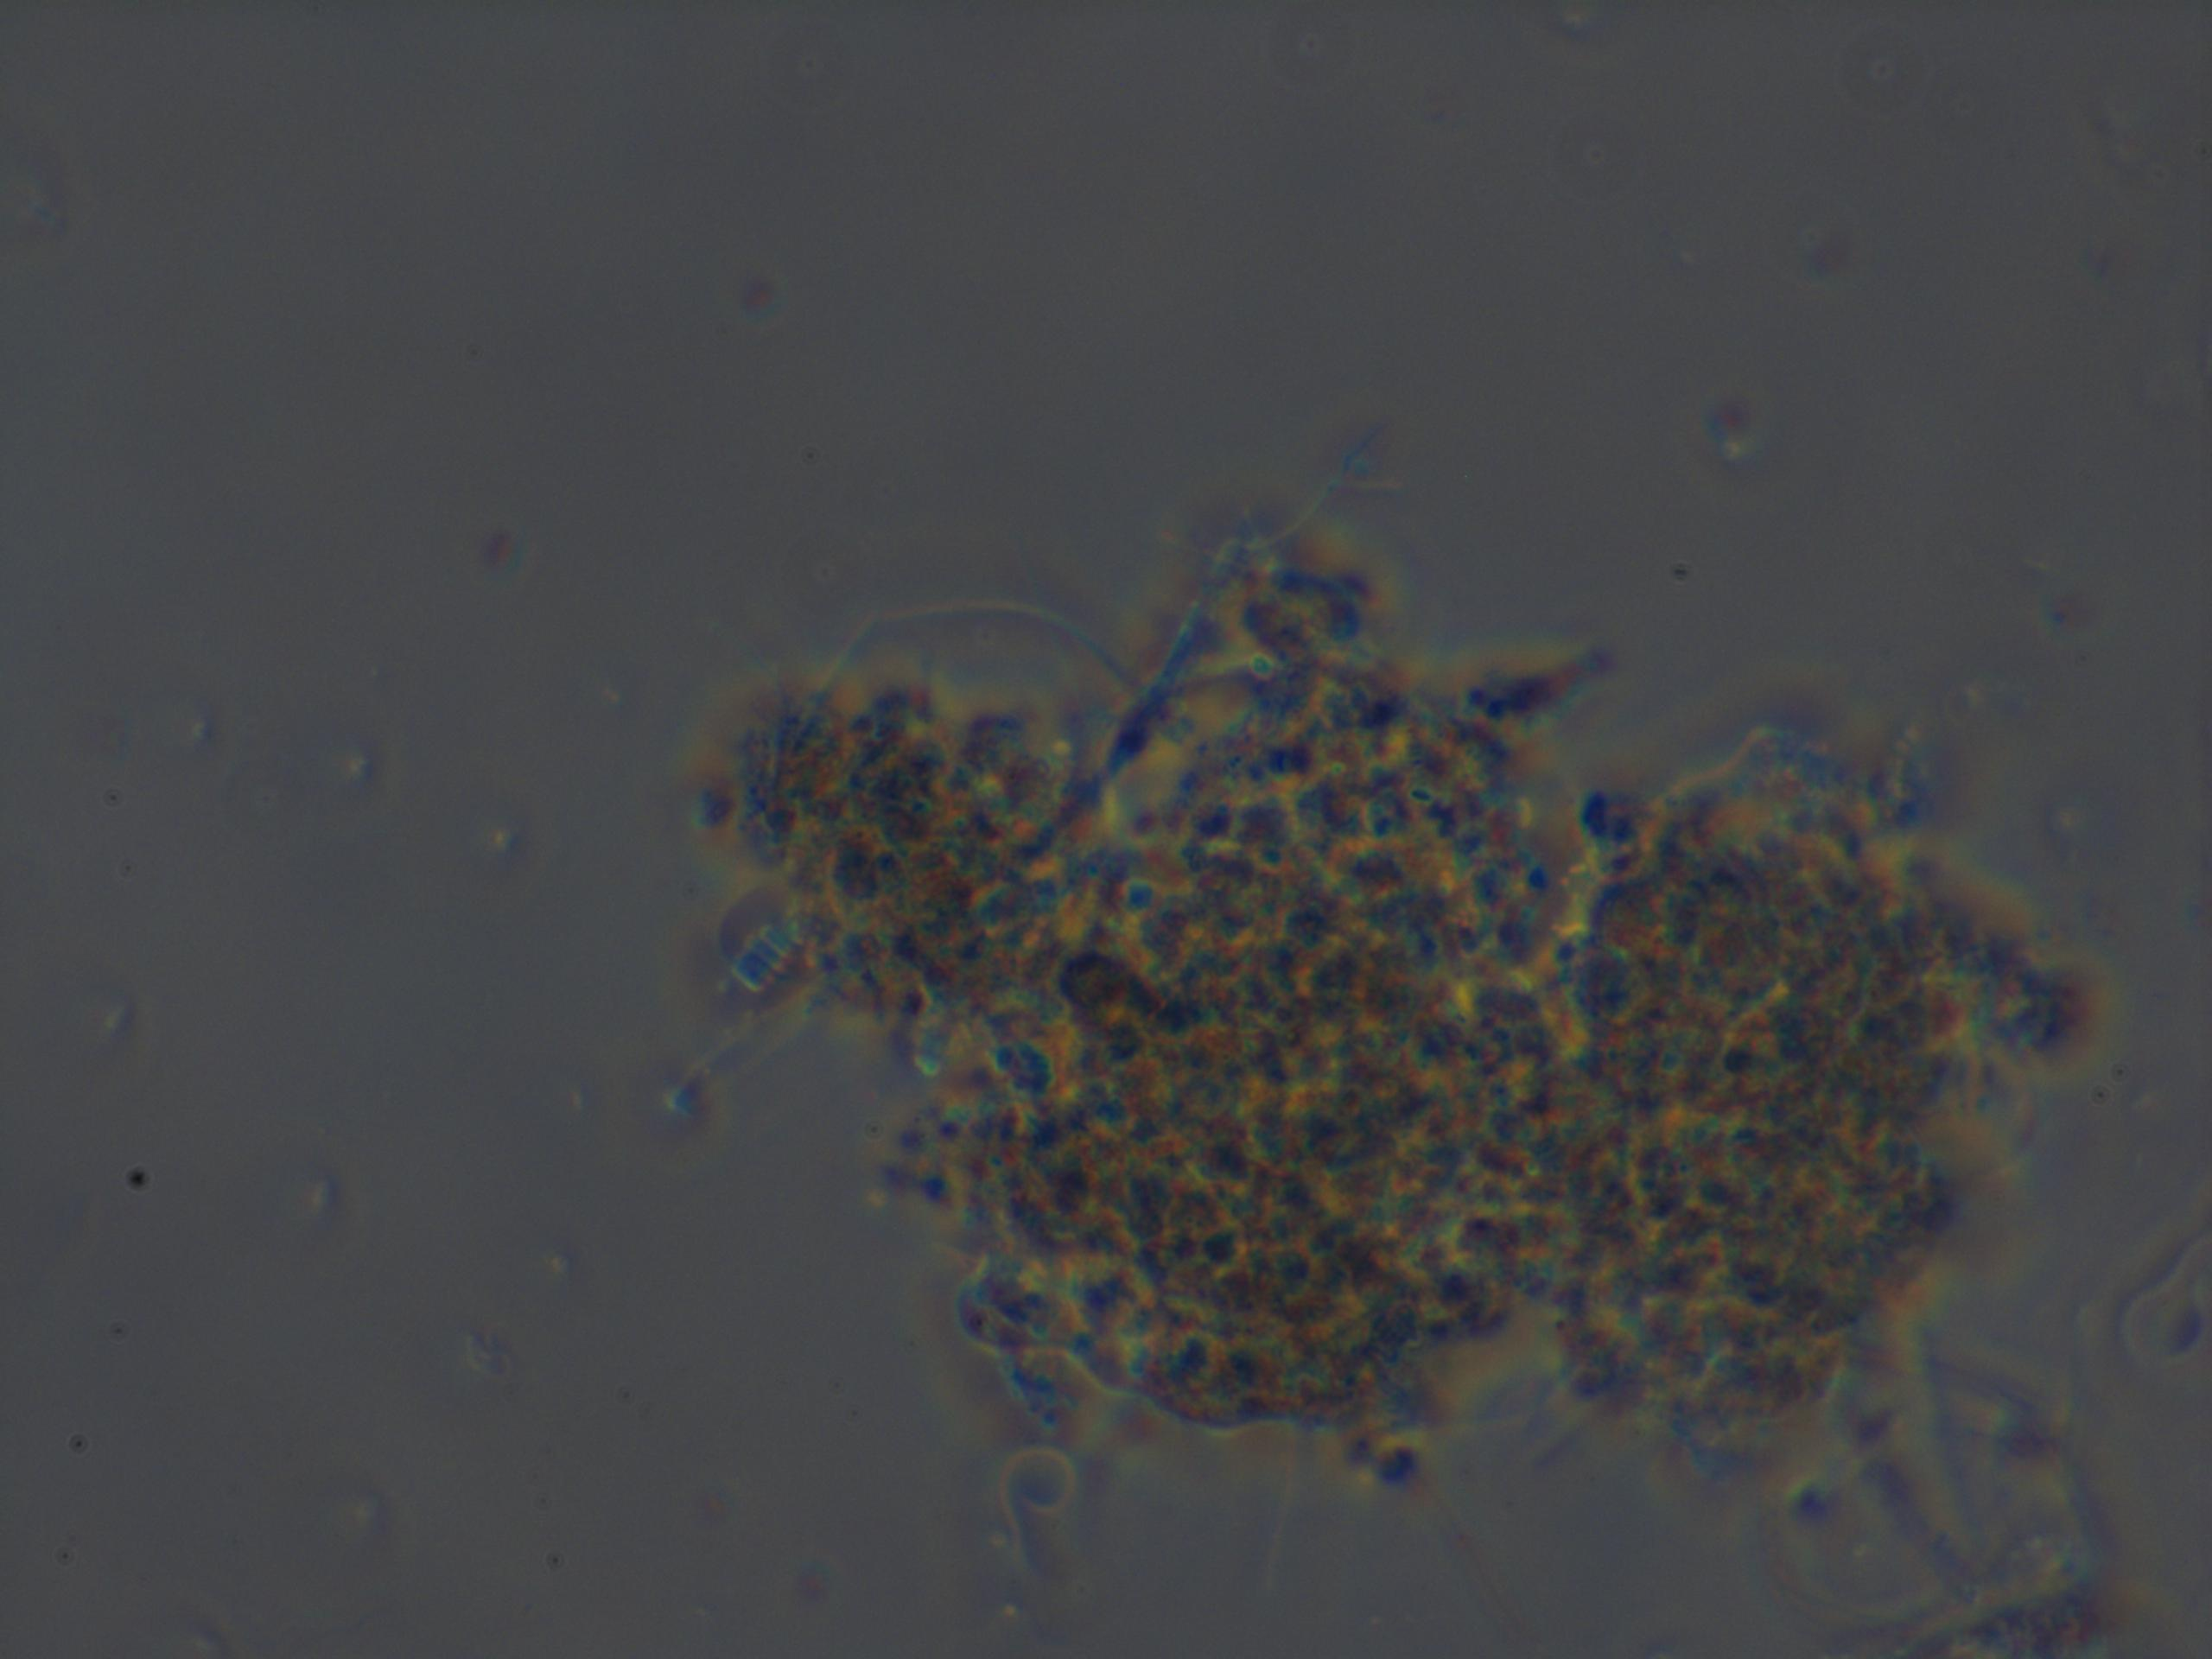spherical_floc: (679, 498, 2102, 1459)
